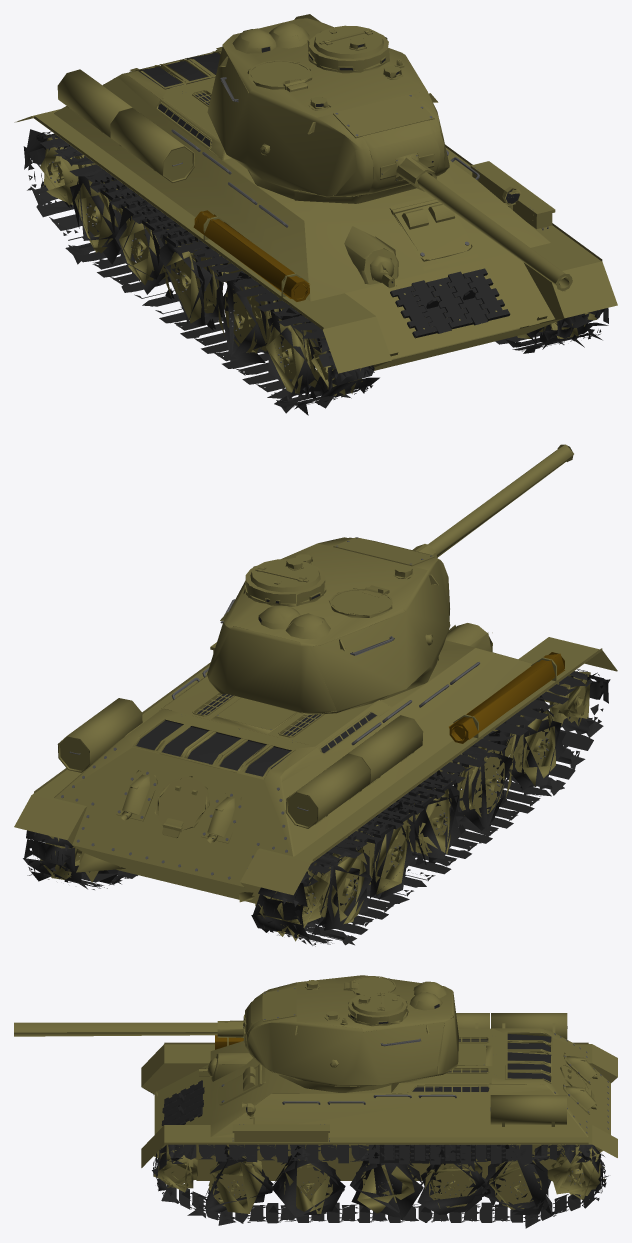
Rendered from tank_lod2_original.glb.
The picture shows the model from 3 angles, top to bottom: view 1: azimuth 30°, elevation 25°; view 2: azimuth 150°, elevation 25°; view 3: azimuth 270°, elevation 25°; orthographic projection. The views are drawn at different scales.
Visible parts, largest first — view 1: T34 Head_T-34 nails_0.003, L.wheel.006_T-34 Body_0.003, L.Truck_T-34 Truck_0.007, R.Truck_T-34 Truck_0.004, L.Truck.002_T-34 nails_0.003; view 2: T34 Head_T-34 nails_0.003, L.wheel.006_T-34 Body_0.003, L.Truck_T-34 Truck_0.007, R.Truck_T-34 Truck_0.004, L.Truck.002_T-34 nails_0.003; view 3: T34 Head_T-34 nails_0.003, L.wheel.006_T-34 Body_0.003, L.Truck_T-34 Truck_0.007, L.Truck_T-34 Truck_0.006, L.Truck.002_T-34 nails_0.003.
Part boxes in pixels (<box>): T34 Head_T-34 nails_0.003: <box>14,14,617,373</box>; L.wheel.006_T-34 Body_0.003: <box>40,135,597,399</box>; L.Truck_T-34 Truck_0.007: <box>23,129,608,415</box>; R.Truck_T-34 Truck_0.004: <box>90,175,209,257</box>; L.Truck.002_T-34 nails_0.003: <box>171,129,479,227</box>; T34 Head_T-34 nails_0.003: <box>14,444,617,903</box>; L.wheel.006_T-34 Body_0.003: <box>40,671,590,941</box>; L.Truck_T-34 Truck_0.007: <box>23,669,610,946</box>; R.Truck_T-34 Truck_0.004: <box>348,763,468,843</box>; L.Truck.002_T-34 nails_0.003: <box>69,662,479,810</box>; T34 Head_T-34 nails_0.003: <box>14,975,617,1180</box>; L.wheel.006_T-34 Body_0.003: <box>153,1144,604,1220</box>; L.Truck_T-34 Truck_0.007: <box>152,1094,608,1228</box>; L.Truck_T-34 Truck_0.006: <box>352,1144,505,1164</box>; L.Truck.002_T-34 nails_0.003: <box>282,1026,567,1110</box>.
Size of the model in its own units: 71.38 by 62.62 by 178.
